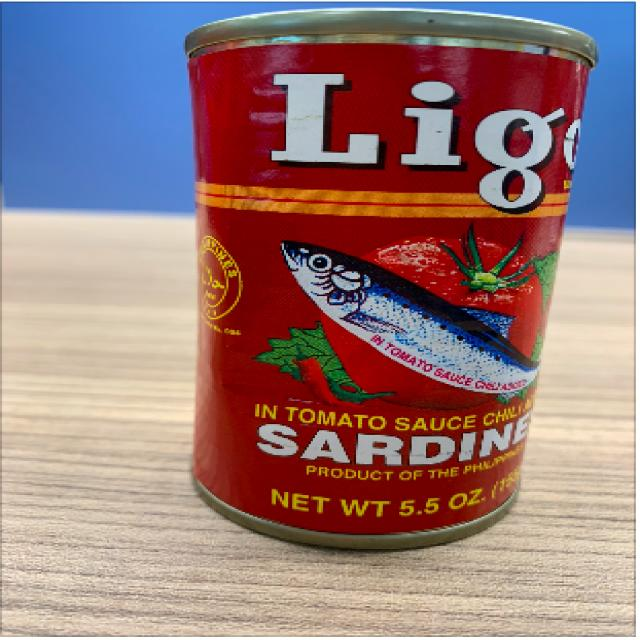object_name: (188, 29, 558, 546)
